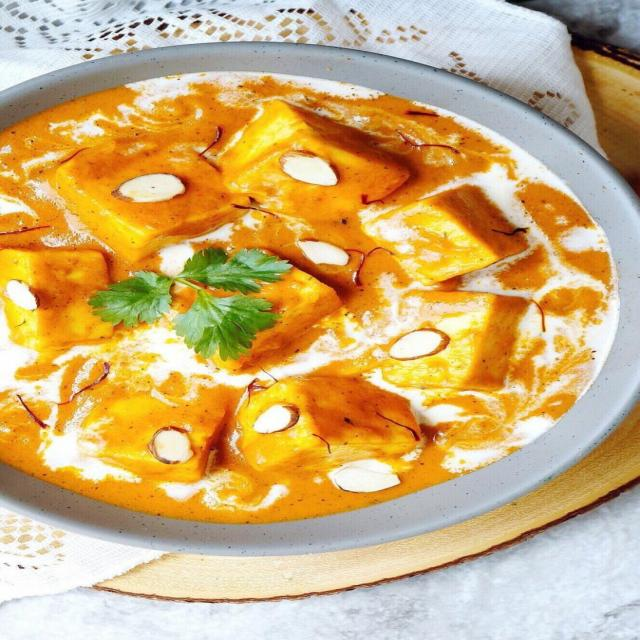ShahiPaneer: (1, 84, 626, 523)
